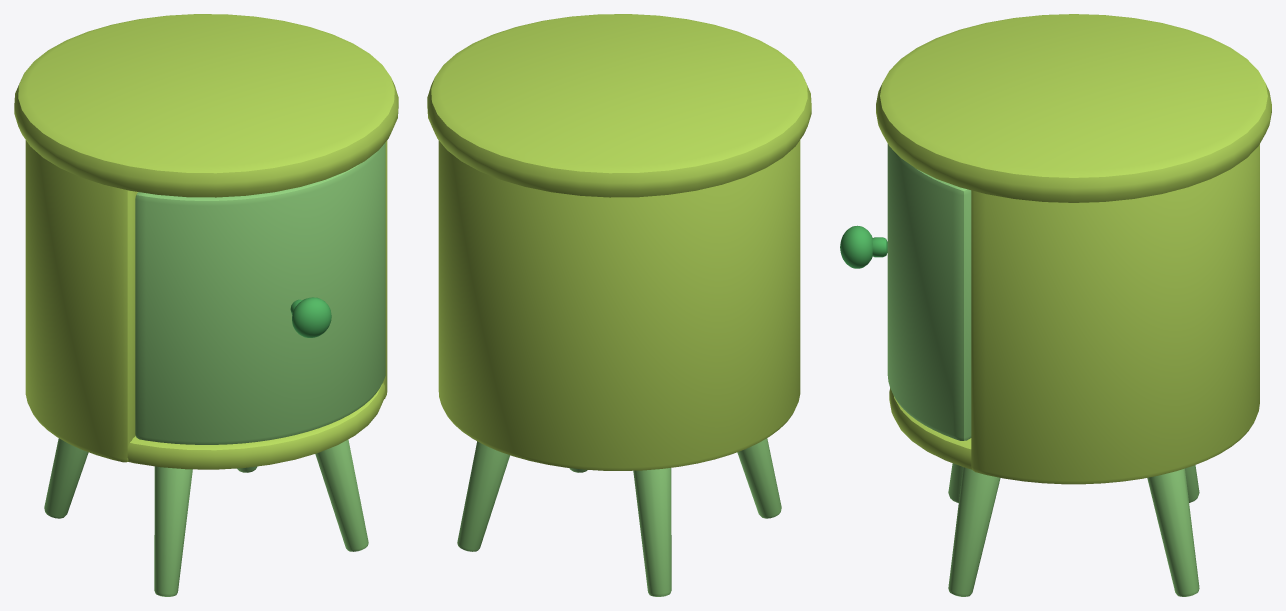
File: criado_cilindro_verde.glb
The picture shows the model from 3 angles, left to right: view 1: azimuth 30°, elevation 25°; view 2: azimuth 150°, elevation 25°; view 3: azimuth 270°, elevation 25°; orthographic projection. The views are drawn at different scales.
Parts seen in each view (by area): view 1: criado_cilindro_verde, porta_1; view 2: criado_cilindro_verde; view 3: criado_cilindro_verde, porta_1.
Part boxes in pixels (x1,y1,x2,y2): criado_cilindro_verde: (14,14,398,596); porta_1: (135,142,385,444); criado_cilindro_verde: (427,14,811,596); criado_cilindro_verde: (876,14,1271,596); porta_1: (840,144,971,440).
Size of the model in its own units: 0.468 by 0.5942 by 0.5104.
1 material, 1 textured.
